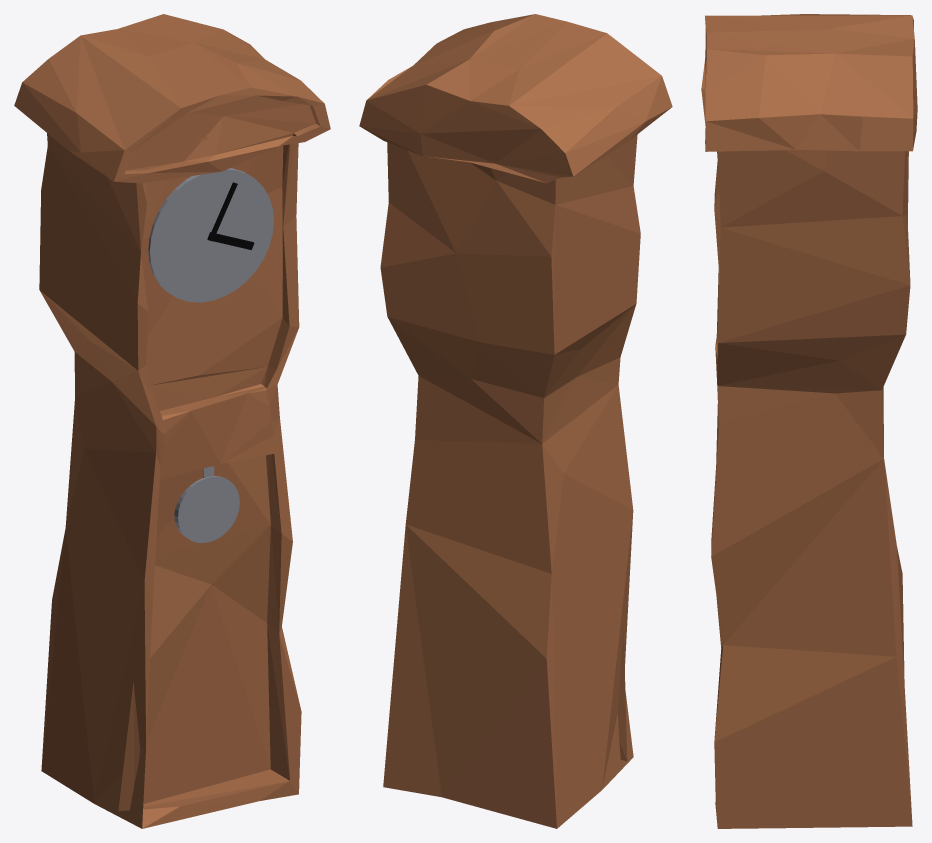
The model's file is Clock.fbx.
The picture shows the model from 3 angles, left to right: view 1: azimuth 30°, elevation 25°; view 2: azimuth 150°, elevation 25°; view 3: azimuth 270°, elevation 25°; orthographic projection. The views are drawn at different scales.
Parts seen in each view (by area): view 1: Cube.028, Cylinder, Cylinder.001; view 2: Cube.028; view 3: Cube.028.
Part boxes in pixels (left/top/right/bottom): Cube.028: left=14, top=14, right=330, bottom=828; Cylinder: left=148, top=168, right=273, bottom=302; Cylinder.001: left=174, top=476, right=239, bottom=542; Cube.028: left=359, top=14, right=672, bottom=828; Cube.028: left=701, top=14, right=917, bottom=828.
Size of the model in its own units: 49.28 by 155 by 40.33.
